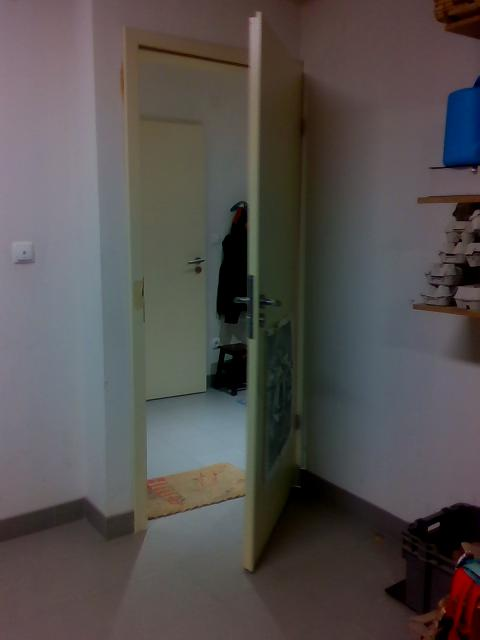semi_door: (119, 9, 309, 577)
